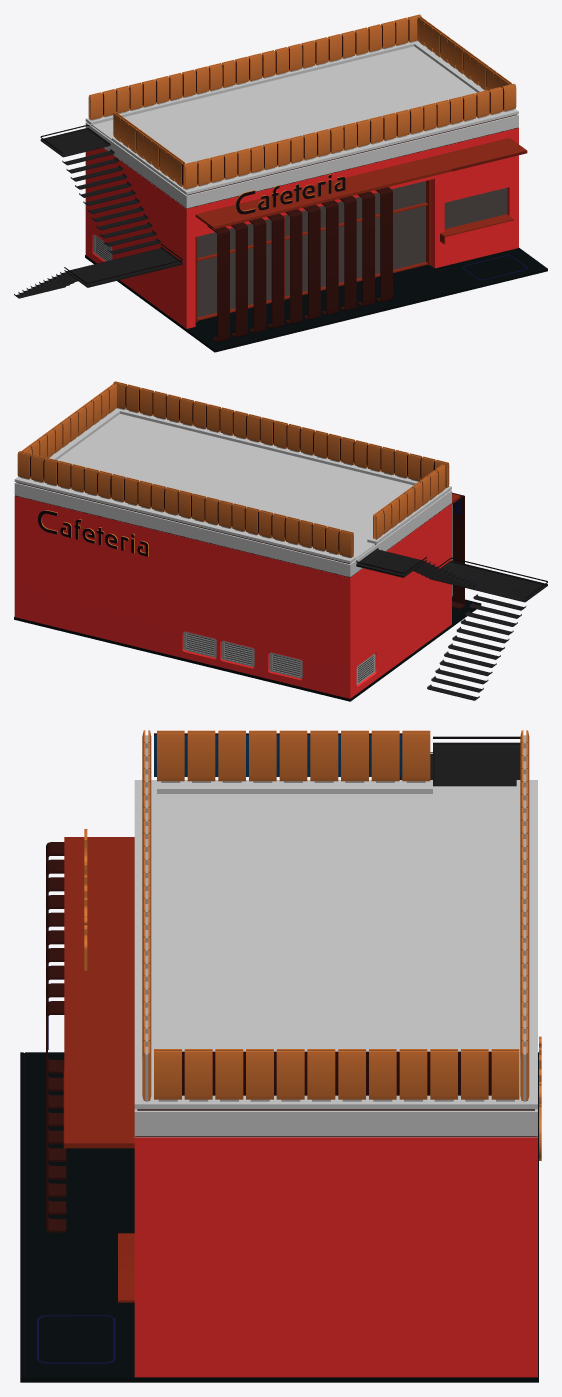
File: Building_Cafe_002_L0.fbx
3 renders of one model, top to bottom at view 1: azimuth 30°, elevation 25°; view 2: azimuth 150°, elevation 25°; view 3: azimuth 270°, elevation 25°, orthographic. The views are drawn at different scales.
Parts seen in each view (by area): view 1: Building_Cafe_002_L0; view 2: Building_Cafe_002_L0; view 3: Building_Cafe_002_L0.
Part boxes in pixels (x1=…): Building_Cafe_002_L0: x1=14, y1=14, x2=547, y2=352; Building_Cafe_002_L0: x1=14, y1=381, x2=547, y2=701; Building_Cafe_002_L0: x1=20, y1=730, x2=541, y2=1382.
Bounding box in the file's own units: 17.84 × 9.35 × 6.5.
